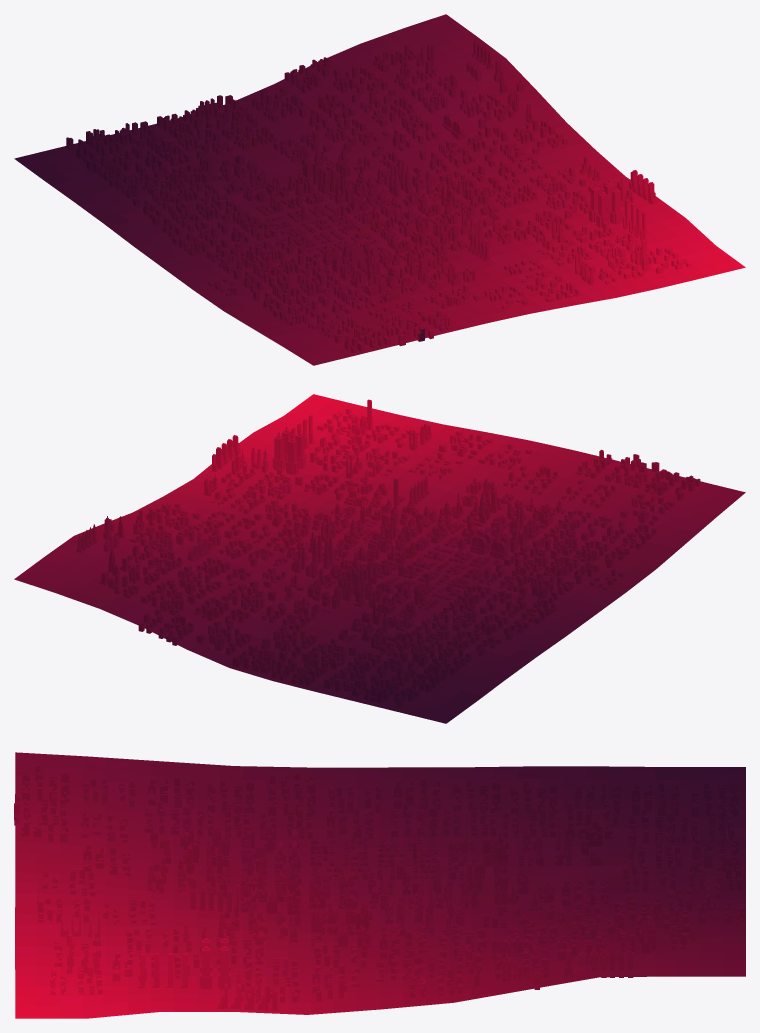
3 renders of one model, top to bottom at view 1: azimuth 30°, elevation 25°; view 2: azimuth 150°, elevation 25°; view 3: azimuth 270°, elevation 25°, orthographic. The views are drawn at different scales.
Parts seen in each view (by area): view 1: skfb_offset; view 2: skfb_offset; view 3: skfb_offset.
Part boxes in pixels (<box>): skfb_offset: <box>14,14,745,365</box>; skfb_offset: <box>14,394,745,723</box>; skfb_offset: <box>14,752,745,1018</box>.
Size of the model in its own units: 350484 by 49873 by 420689.
1 material, 1 textured.
